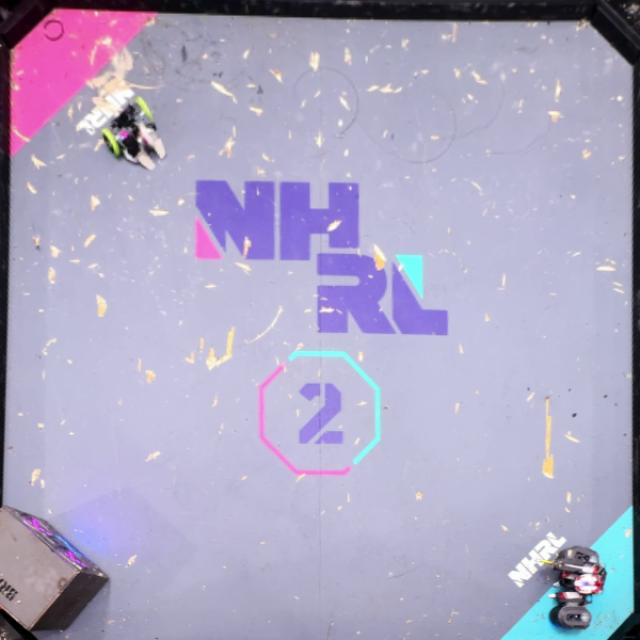housebot: (0, 502, 110, 630)
robot: (535, 546, 605, 629), (98, 96, 167, 170)
